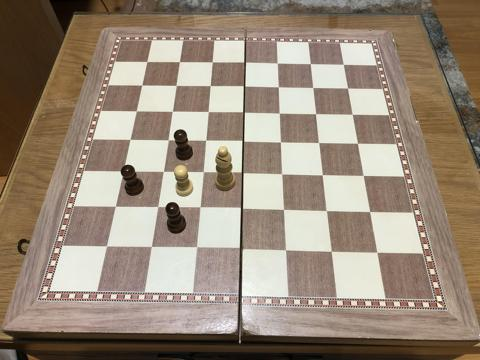xcorner: (339, 58, 351, 71), (354, 137, 366, 150), (280, 204, 293, 216), (195, 203, 208, 215), (282, 245, 295, 257), (306, 58, 318, 70), (273, 58, 285, 70), (240, 57, 252, 69), (208, 57, 220, 69), (175, 57, 187, 69), (142, 56, 154, 68), (344, 82, 356, 94), (309, 82, 321, 94), (274, 81, 286, 93), (240, 81, 252, 93), (206, 81, 218, 93), (171, 80, 183, 92), (137, 80, 149, 92), (348, 109, 360, 121), (312, 108, 324, 120), (276, 108, 288, 120), (240, 107, 252, 119), (203, 107, 215, 119), (167, 106, 179, 118), (131, 106, 143, 118), (315, 137, 327, 149), (277, 136, 289, 148), (239, 136, 251, 148), (201, 135, 213, 147), (163, 135, 175, 147), (125, 134, 137, 146), (359, 170, 371, 182), (319, 169, 331, 181), (279, 168, 291, 180), (239, 168, 251, 180), (198, 167, 210, 179), (158, 167, 170, 179), (119, 166, 131, 178), (366, 206, 378, 218), (323, 205, 335, 217), (238, 204, 250, 216), (153, 202, 165, 214), (111, 202, 123, 214), (373, 246, 385, 258), (328, 245, 340, 257), (237, 244, 249, 256), (192, 243, 204, 255), (147, 242, 159, 254), (102, 241, 114, 253)
